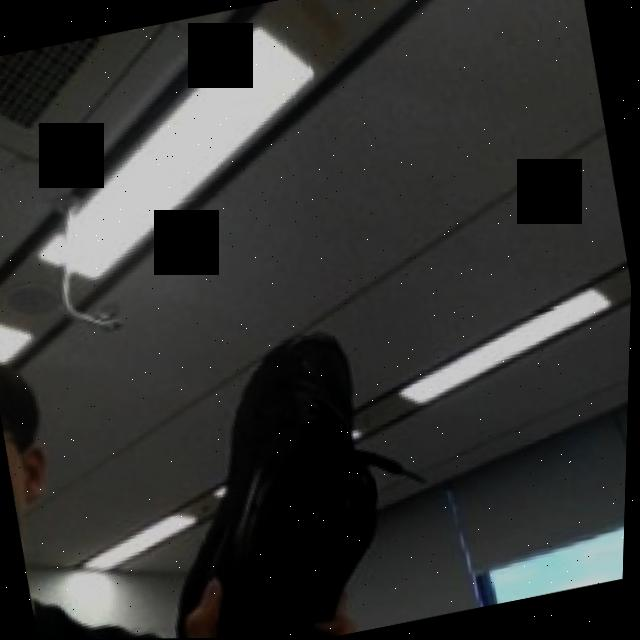shoe: (97, 230, 428, 639)
